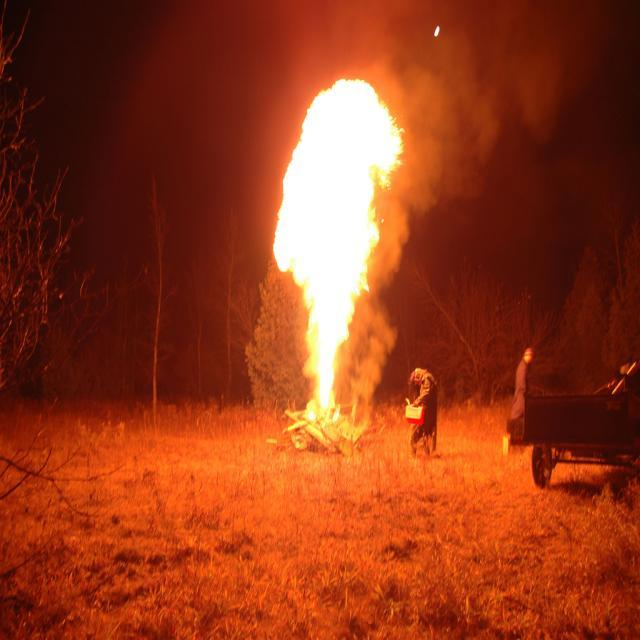Fire: (294, 130, 372, 299)
